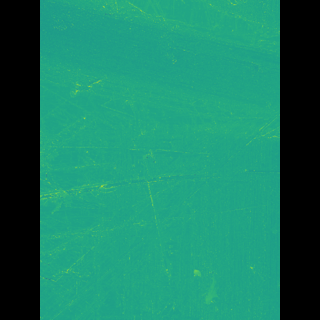Loch: (70, 0, 178, 320), (70, 0, 251, 145)
